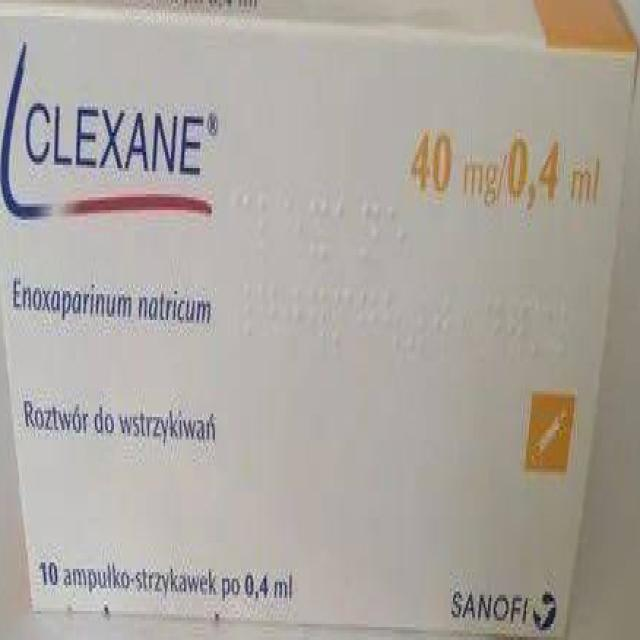drug-name: (20, 96, 223, 181)
